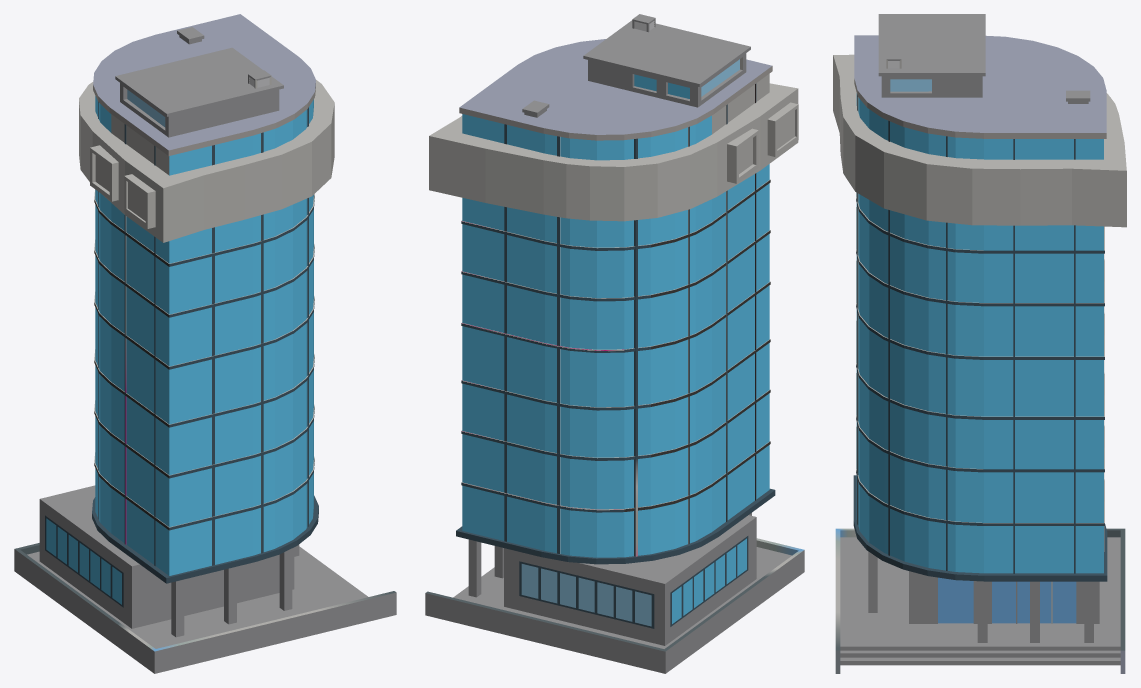
Rendered from daxingjianzhu_yuanhu.fbx.
3 views of the same model, side by side, from view 1: azimuth 30°, elevation 25°; view 2: azimuth 150°, elevation 25°; view 3: azimuth 270°, elevation 25° (orthographic). The views are drawn at different scales.
Parts seen in each view (by area): view 1: daxingjianzhu_yuanhu; view 2: daxingjianzhu_yuanhu; view 3: daxingjianzhu_yuanhu.
Boxes of the visible parts, box(x1,y1,x2,y2) form: daxingjianzhu_yuanhu: box(14, 14, 396, 673); daxingjianzhu_yuanhu: box(425, 14, 804, 673); daxingjianzhu_yuanhu: box(833, 14, 1126, 673).
Bounding box in the file's own units: 1274 × 1293 × 2741.
